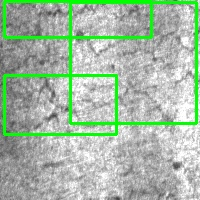crazing: (70, 2, 196, 123), (5, 75, 116, 134), (4, 1, 151, 37)
